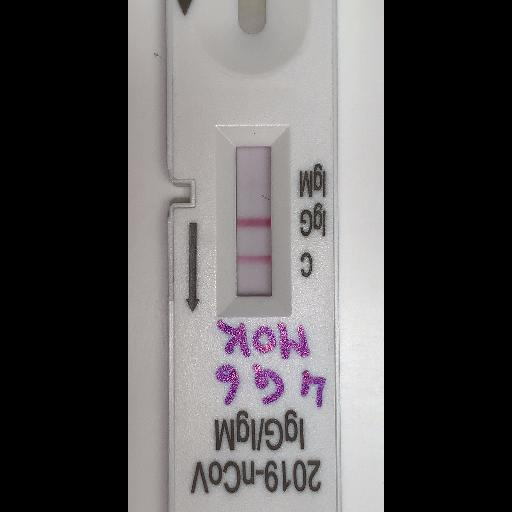Pos: (167, 0, 343, 511)
